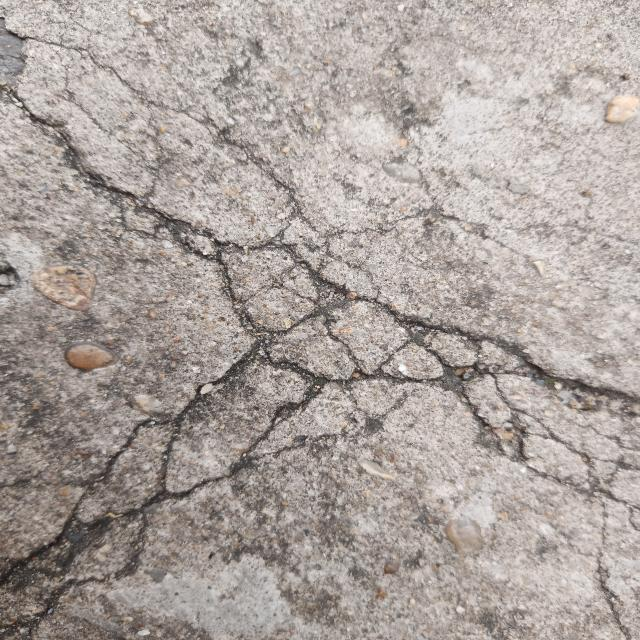network cracks: (0, 33, 639, 639)
